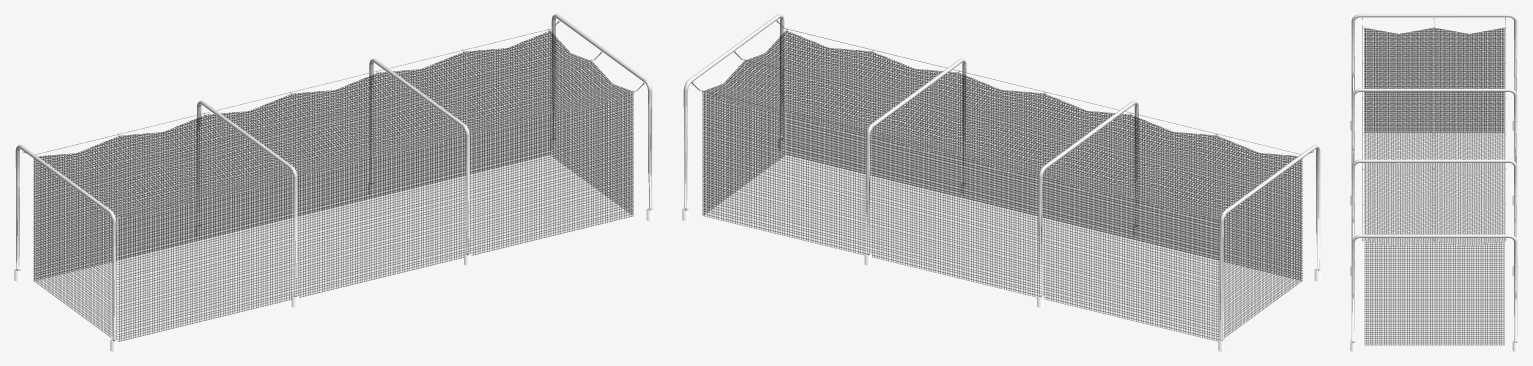
Rendered from Outdoor Varsity 55.glb.
3 views of the same model, side by side, from view 1: azimuth 30°, elevation 25°; view 2: azimuth 150°, elevation 25°; view 3: azimuth 270°, elevation 25° (orthographic). The views are drawn at different scales.
Parts seen in each view (by area): view 1: Playground.005, Playground.004; view 2: Playground.005, Playground.004; view 3: Playground.005, Playground.004.
Boxes of the visible parts, box(x1,y1,x2,y2) form: Playground.005: box(33, 30, 633, 341); Playground.004: box(14, 14, 653, 351); Playground.005: box(702, 30, 1302, 341); Playground.004: box(682, 14, 1321, 351); Playground.005: box(1364, 27, 1504, 345); Playground.004: box(1350, 14, 1518, 351).
Size of the model in its own units: 16.57 by 4.01 by 5.28.
4 materials, 1 textured.
